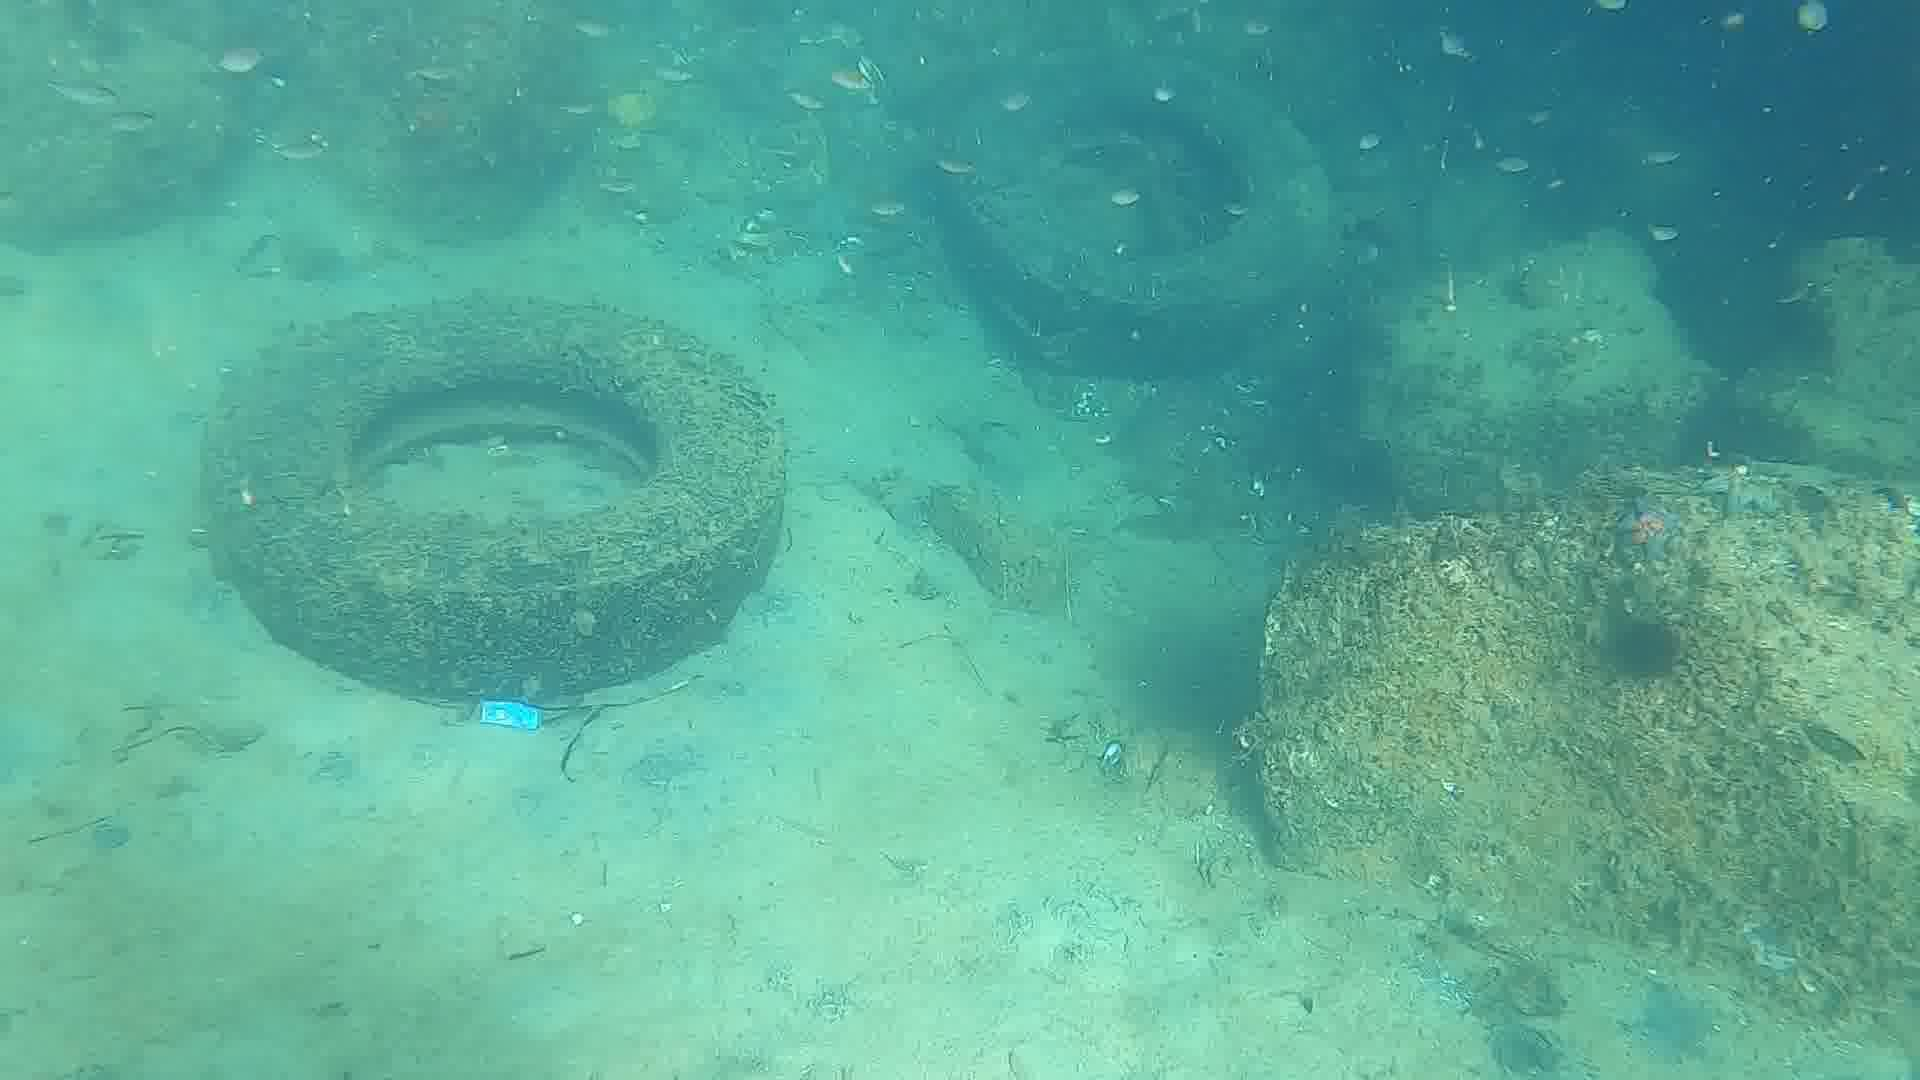tire: (202, 301, 785, 705), (945, 55, 1333, 361)
